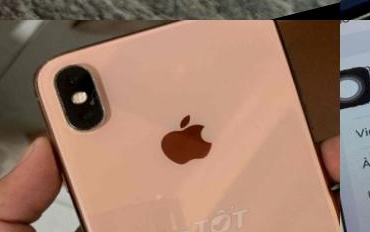physical_damage: (79, 80, 113, 110)
scratch: (43, 83, 74, 127), (39, 60, 78, 83)
